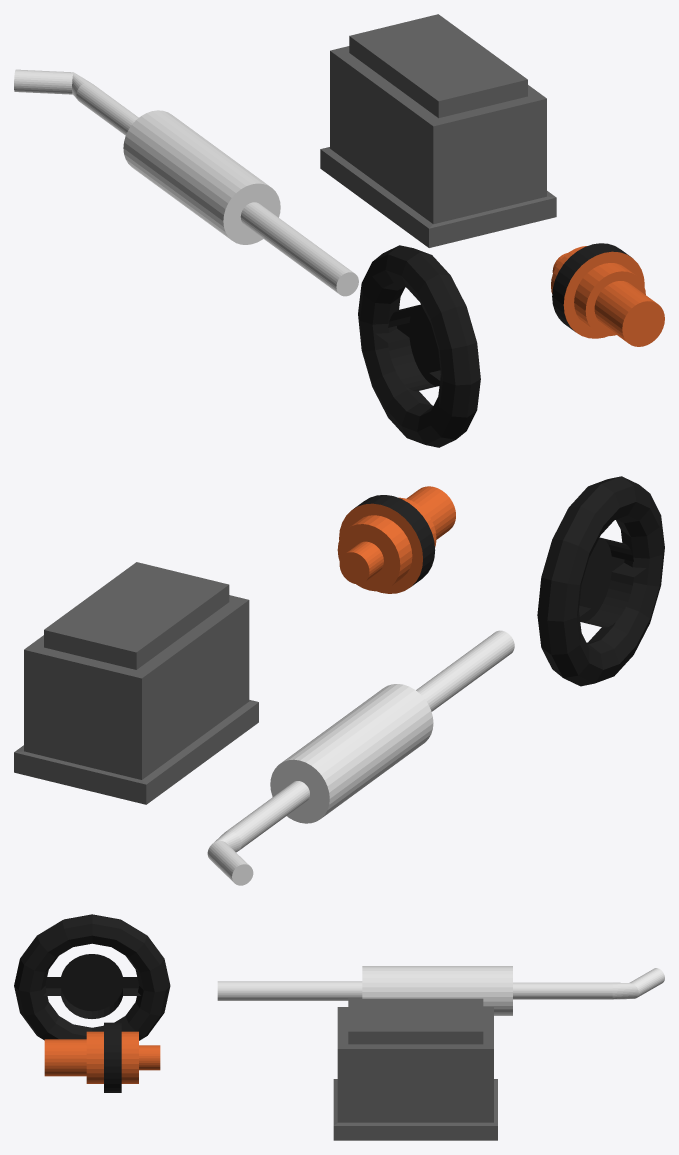
File: Delovi.fbx
3 renders of one model, top to bottom at view 1: azimuth 30°, elevation 25°; view 2: azimuth 150°, elevation 25°; view 3: azimuth 270°, elevation 25°, orthographic. The views are drawn at different scales.
Visible parts, largest first — view 1: Akumulator, Volan, Auspuh, Karburator; view 2: Akumulator, Volan, Auspuh, Karburator; view 3: Akumulator, Volan, Auspuh, Karburator.
Part boxes in pixels (bbox=[...]): Akumulator: bbox=[320, 14, 556, 247]; Volan: bbox=[358, 245, 480, 447]; Auspuh: bbox=[14, 69, 358, 296]; Karburator: bbox=[551, 243, 664, 346]; Akumulator: bbox=[14, 562, 258, 804]; Volan: bbox=[537, 476, 664, 686]; Auspuh: bbox=[207, 630, 514, 885]; Karburator: bbox=[337, 486, 455, 593]; Akumulator: bbox=[333, 998, 497, 1140]; Volan: bbox=[14, 914, 170, 1040]; Auspuh: bbox=[217, 966, 664, 1015]; Karburator: bbox=[44, 1022, 160, 1092].
Bounding box in the file's own units: 82.75 × 44.7 × 186.
